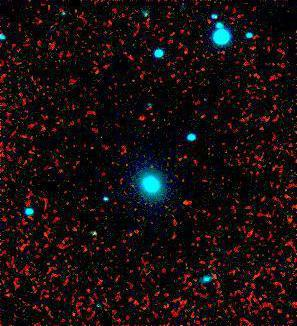star: (175, 188, 205, 218)
